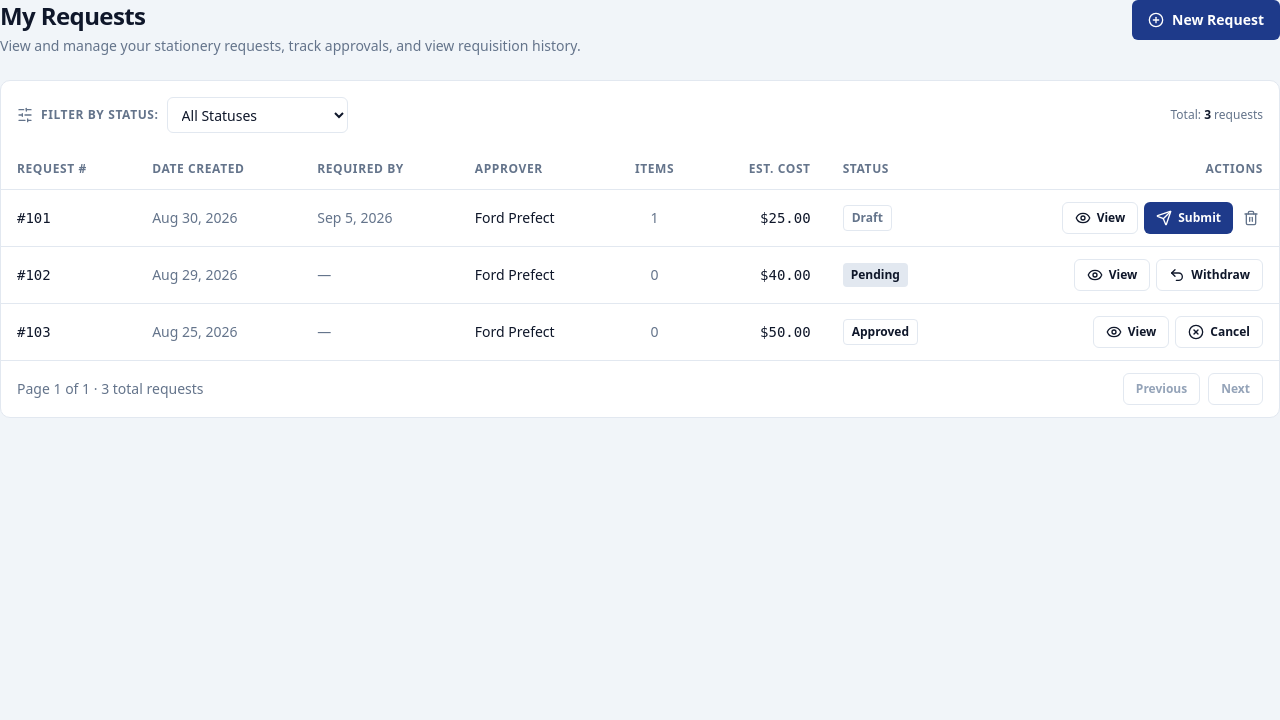
Test case: MyRequestsPage › opens request detail modal when clicking View
This screenshot has width=1280, height=720.
Click the button with aria-label "view details for request #101". click: (1100, 218)
box: top-left (1062, 202), bottom-right (1138, 234)
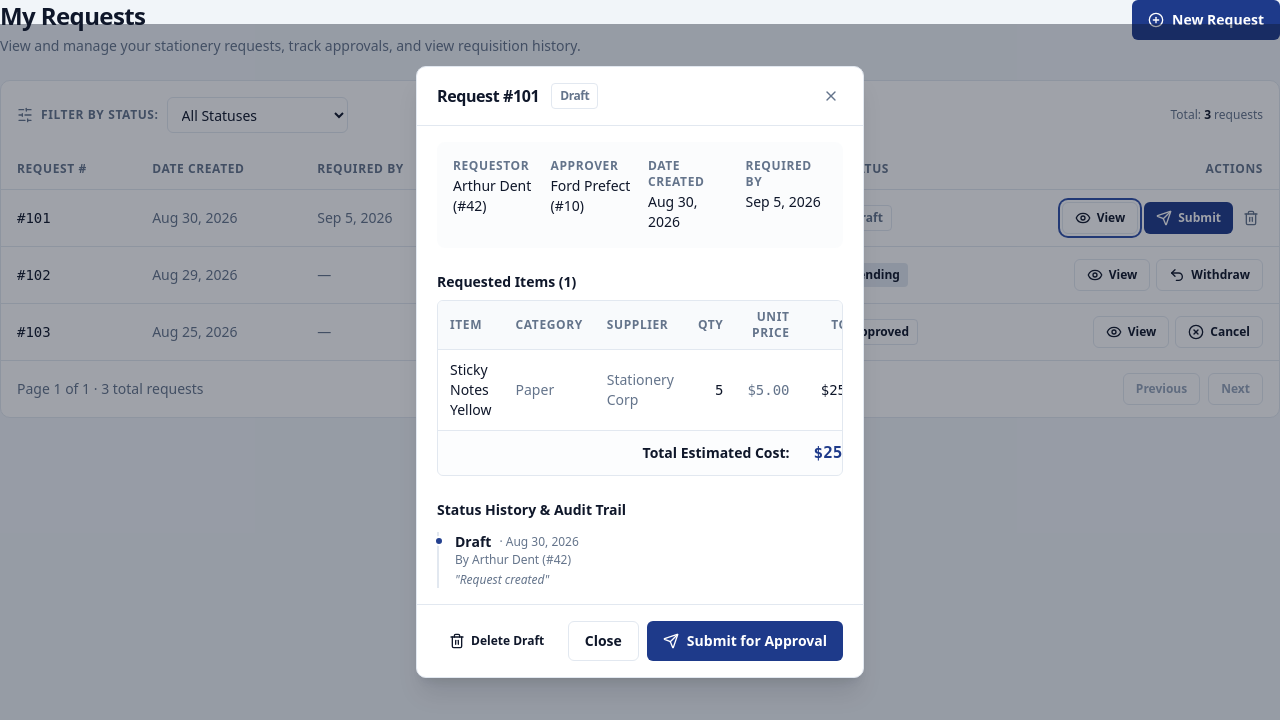
Now the text "Sticky Notes Yellow" is shown, box top-left (438, 350), bottom-right (504, 430)
Now the text "Stationery Corp" is shown, box top-left (595, 350), bottom-right (686, 430)
